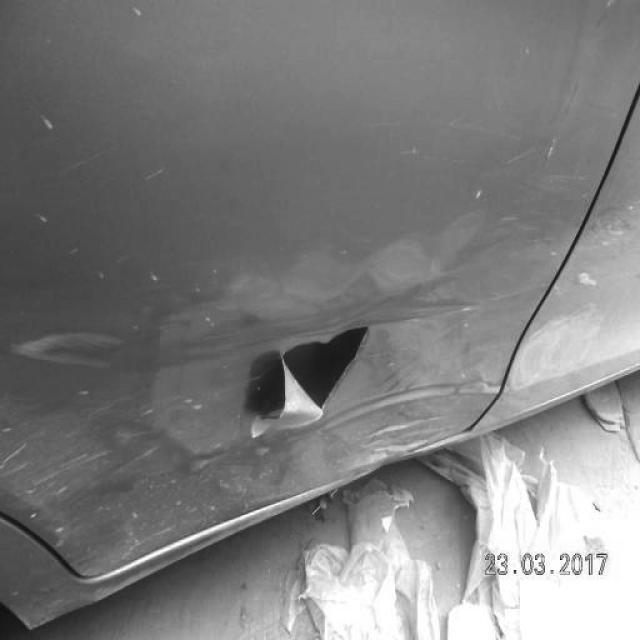car damage: (239, 317, 375, 438)
